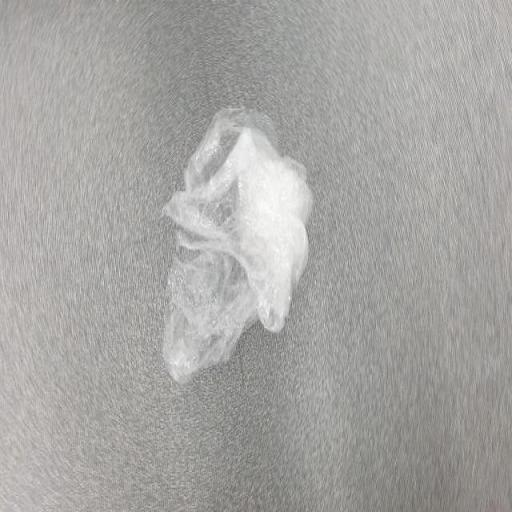plastic-bag: (158, 106, 316, 388)
